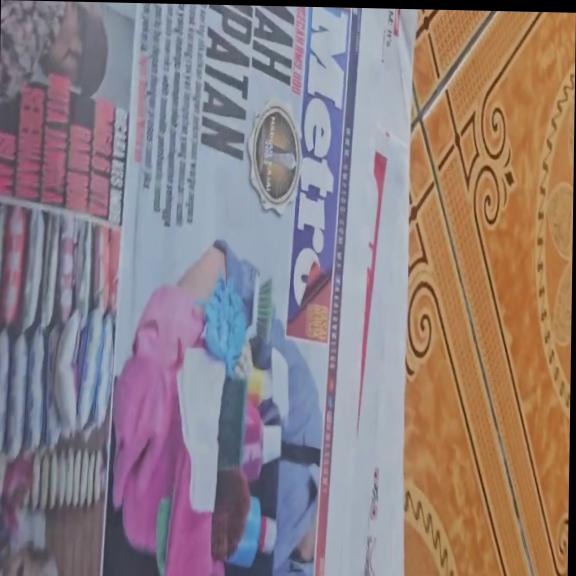Kertas: (0, 7, 407, 576)
